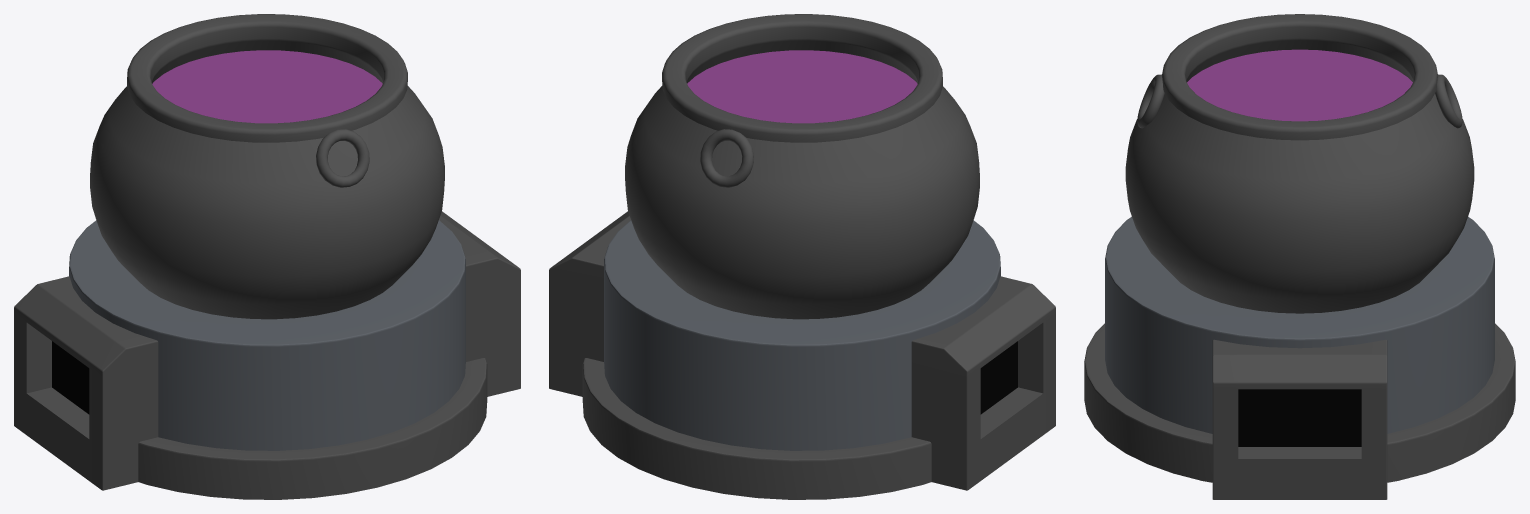
File: Marmit.fbx
3 renders of one model, left to right at view 1: azimuth 30°, elevation 25°; view 2: azimuth 150°, elevation 25°; view 3: azimuth 270°, elevation 25°, orthographic.
Visible parts, largest first — view 1: Marmit; view 2: Marmit; view 3: Marmit.
Part boxes in pixels (x1,y1,x2,y2): Marmit: (14, 14, 520, 499); Marmit: (549, 14, 1055, 499); Marmit: (1084, 14, 1515, 499).
Bounding box in the file's own units: 4.13 × 3.16 × 3.76.
